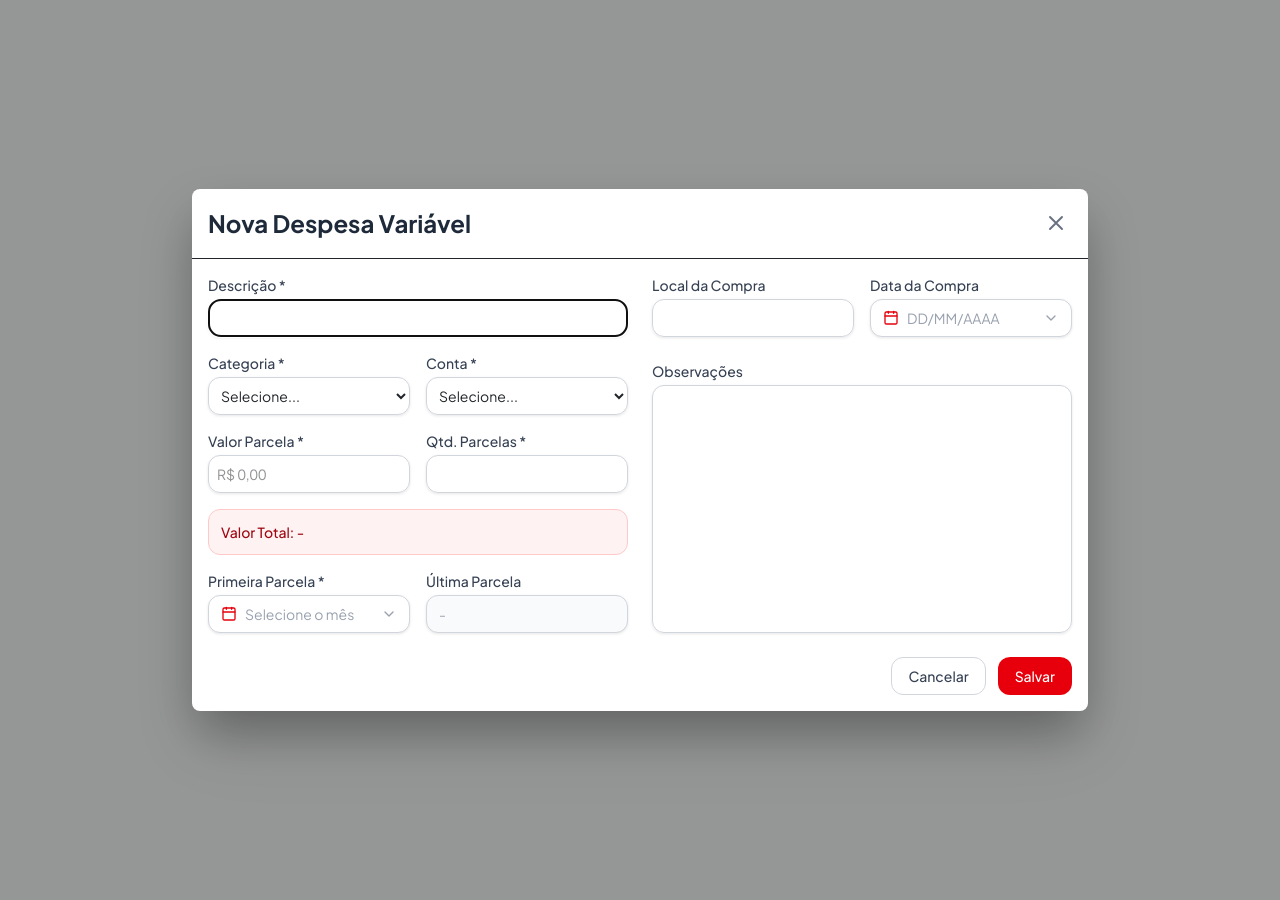
Test: MovimentacaoForm - Componentes Compartilhados › MovimentacaoVariavelFormModal › limpa erro do campo individualmente ao alterar valor em movimentação variável
Click the button "Salvar" at (1035, 676), box [998,657,1072,695]
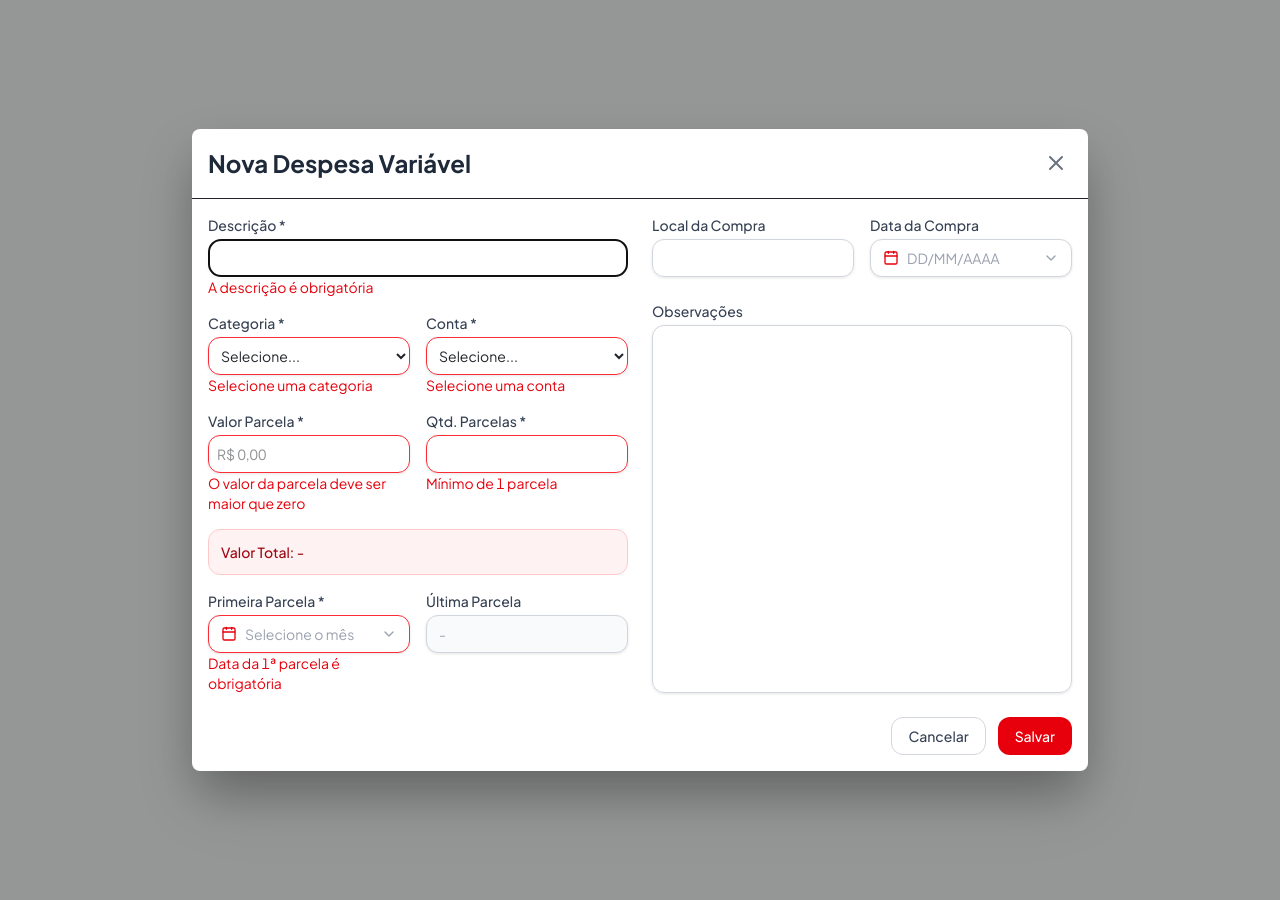
expect the text "A descrição é obrigatória" is shown: met, box [208,278,374,296]
Type "Celular" into the field labelled "Descrição *" at (418, 258), box [208,239,628,277]
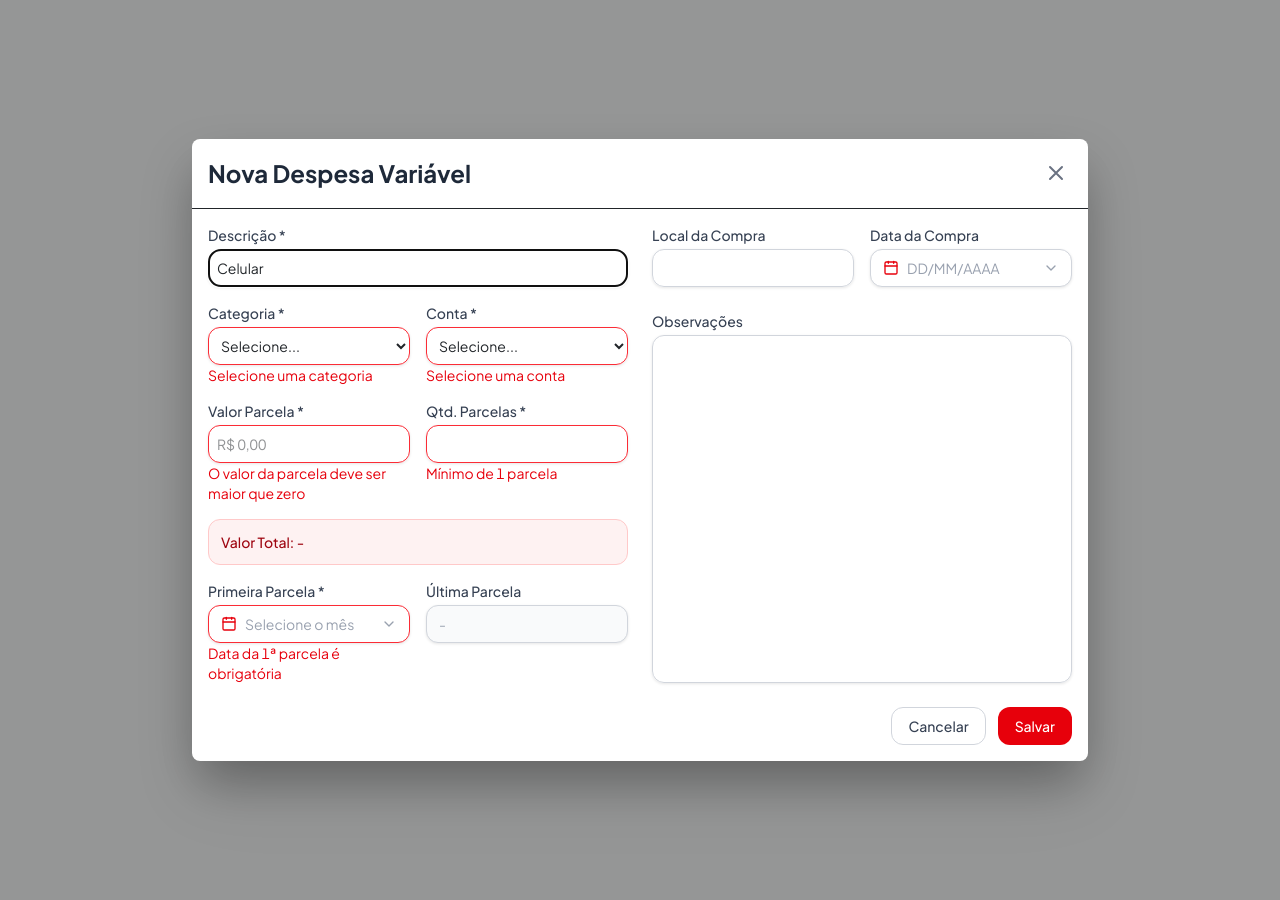
expect the text "A descrição é obrigatória" is gone: met
